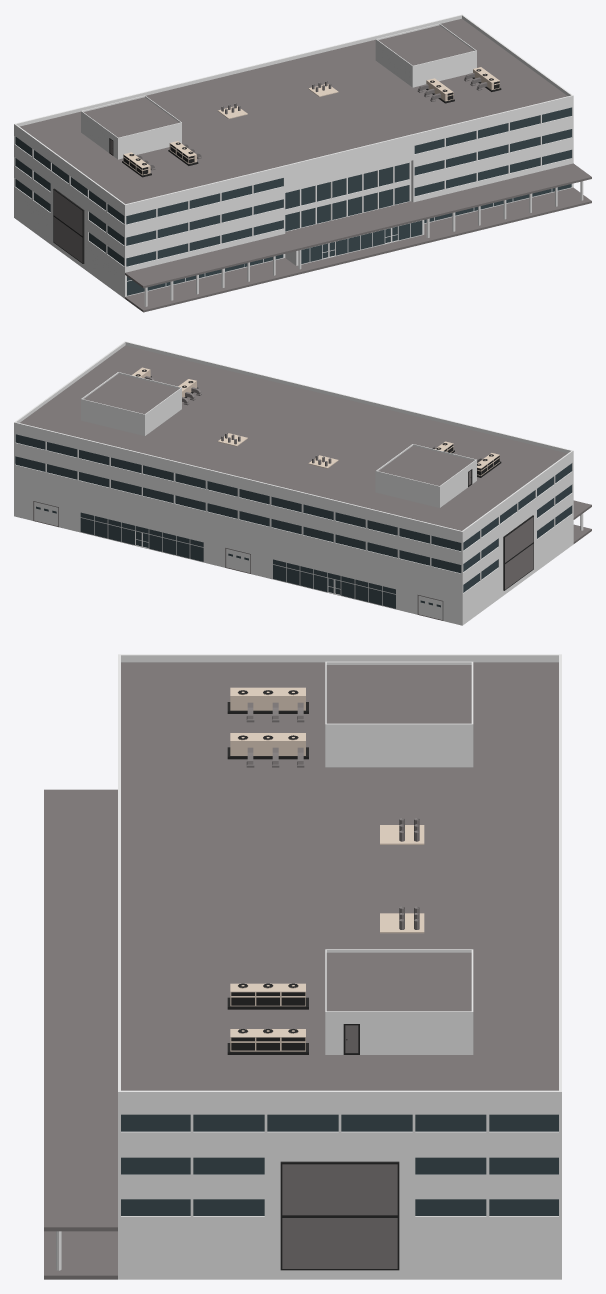
The model's file is buildings_airport-terminal.fbx.
The picture shows the model from 3 angles, top to bottom: view 1: azimuth 30°, elevation 25°; view 2: azimuth 150°, elevation 25°; view 3: azimuth 270°, elevation 25°; orthographic projection. The views are drawn at different scales.
Parts seen in each view (by area): view 1: buildings_airport_terminal; view 2: buildings_airport_terminal; view 3: buildings_airport_terminal.
Part boxes in pixels (x1,y1,x2,y2): buildings_airport_terminal: (14, 14, 591, 312); buildings_airport_terminal: (14, 341, 591, 625); buildings_airport_terminal: (44, 654, 561, 1279).
Bounding box in the file's own units: 200 × 47.44 × 99.43.
